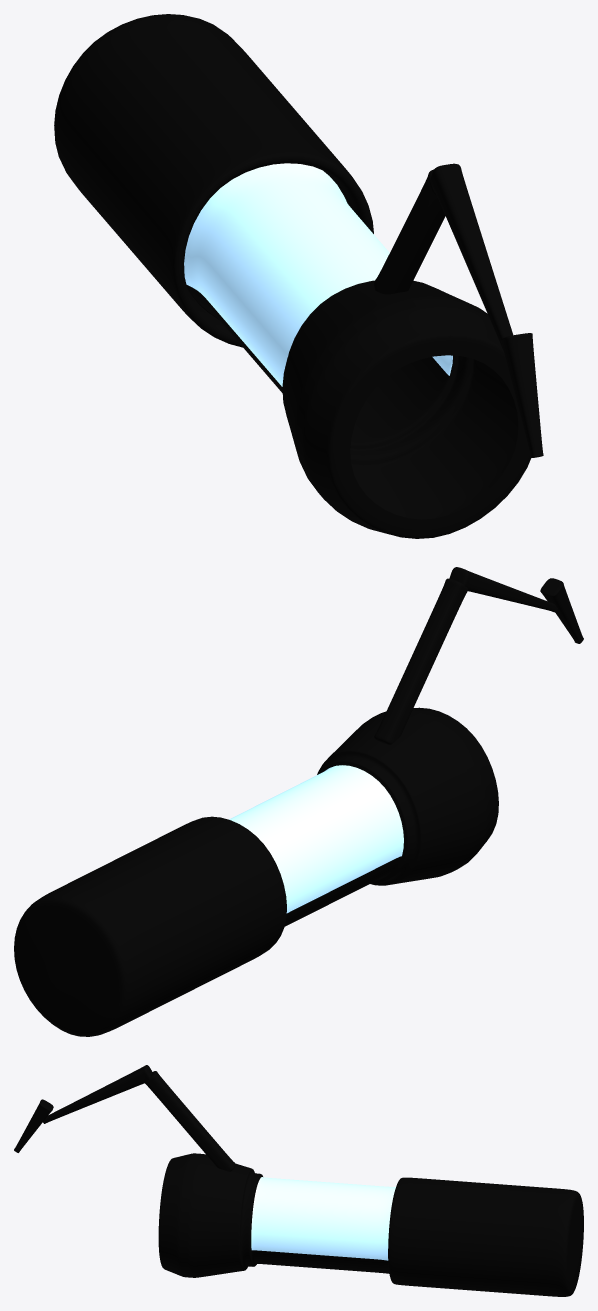
The model's file is piece2_inverted.fbx.
The picture shows the model from 3 angles, top to bottom: view 1: azimuth 30°, elevation 25°; view 2: azimuth 150°, elevation 25°; view 3: azimuth 270°, elevation 25°; orthographic projection. The views are drawn at different scales.
Visible parts, largest first — view 1: Cube.000, Cube.002; view 2: Cube.000, Cube.002; view 3: Cube.000, Cube.002.
Part boxes in pixels (box(x1,y1,x2,y2)): Cube.000: box(54, 14, 531, 538); Cube.002: box(374, 163, 543, 457); Cube.000: box(14, 707, 498, 1036); Cube.002: box(374, 567, 583, 744); Cube.000: box(158, 1153, 583, 1296); Cube.002: box(14, 1065, 235, 1171).
Size of the model in its own units: 96.51 by 119 by 304.
